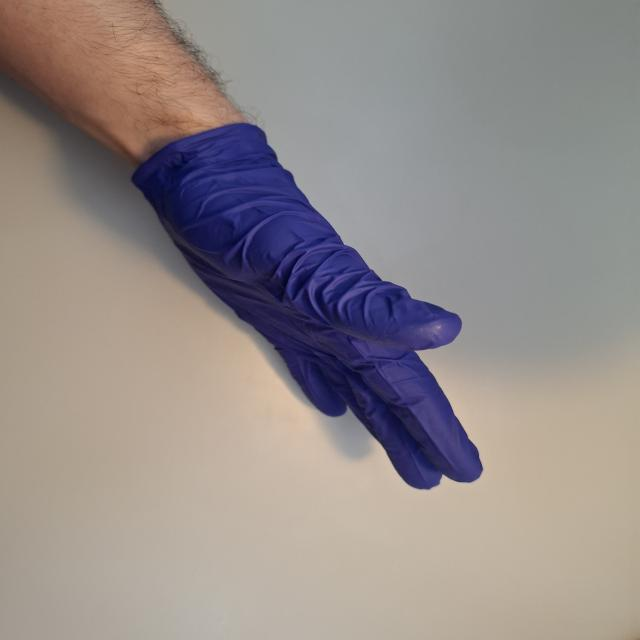glove_on: (128, 117, 484, 492)
